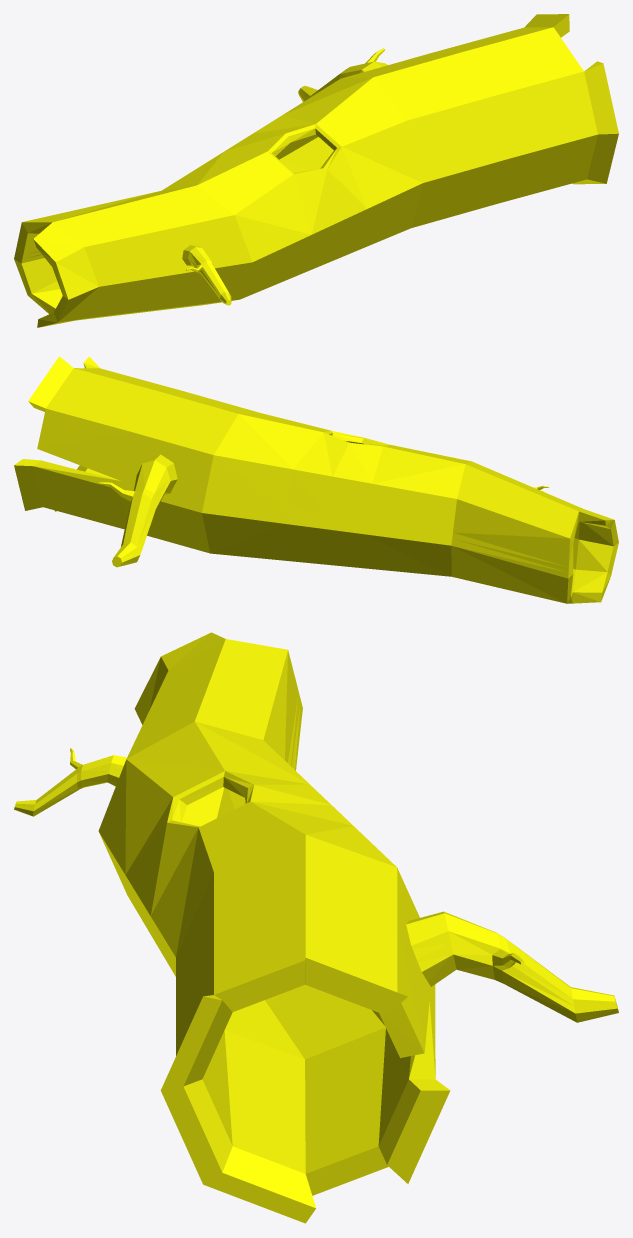
Rendered from log.glb.
3 renders of one model, top to bottom at view 1: azimuth 30°, elevation 25°; view 2: azimuth 150°, elevation 25°; view 3: azimuth 270°, elevation 25°, orthographic. The views are drawn at different scales.
Parts seen in each view (by area): view 1: log; view 2: log; view 3: log.
Part boxes in pixels (left/top/right/bottom): log: left=14, top=14, right=618, bottom=327; log: left=14, top=356, right=618, bottom=603; log: left=14, top=632, right=618, bottom=1223.
Size of the model in its own units: 4.83 by 1.38 by 2.89.
1 material, 1 textured.
